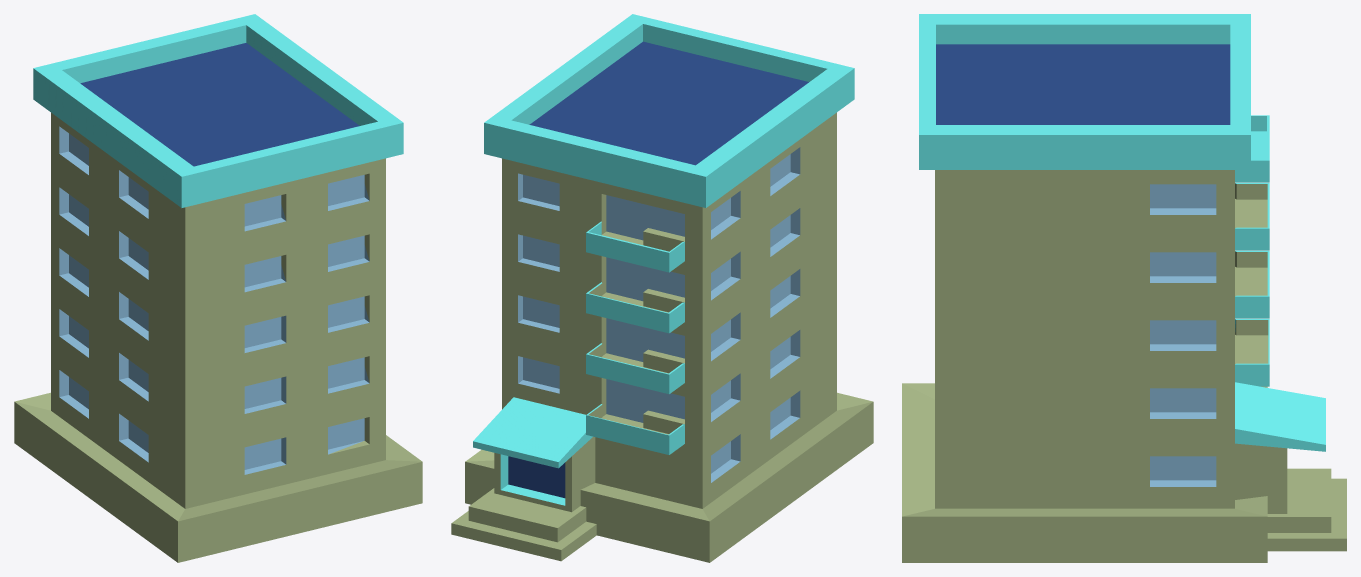
File: house2.glb
The picture shows the model from 3 angles, left to right: view 1: azimuth 30°, elevation 25°; view 2: azimuth 150°, elevation 25°; view 3: azimuth 270°, elevation 25°; orthographic projection. The views are drawn at different scales.
Visible parts, largest first — view 1: House2; view 2: House2; view 3: House2.
Part boxes in pixels (x1,y1,x2,y2): House2: [14, 14, 422, 562]; House2: [451, 14, 873, 562]; House2: [902, 14, 1346, 562].
Size of the model in its own units: 3.41 by 5.03 by 4.8.
